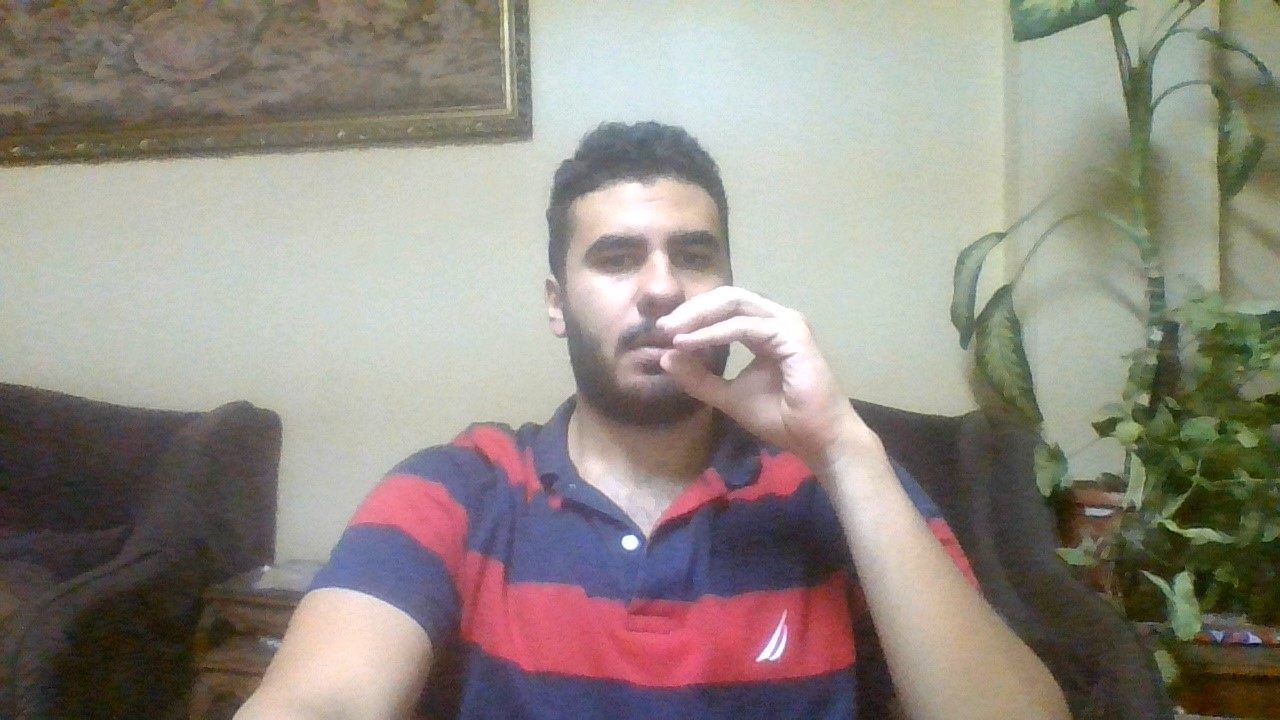drink: (654, 300, 874, 455)
